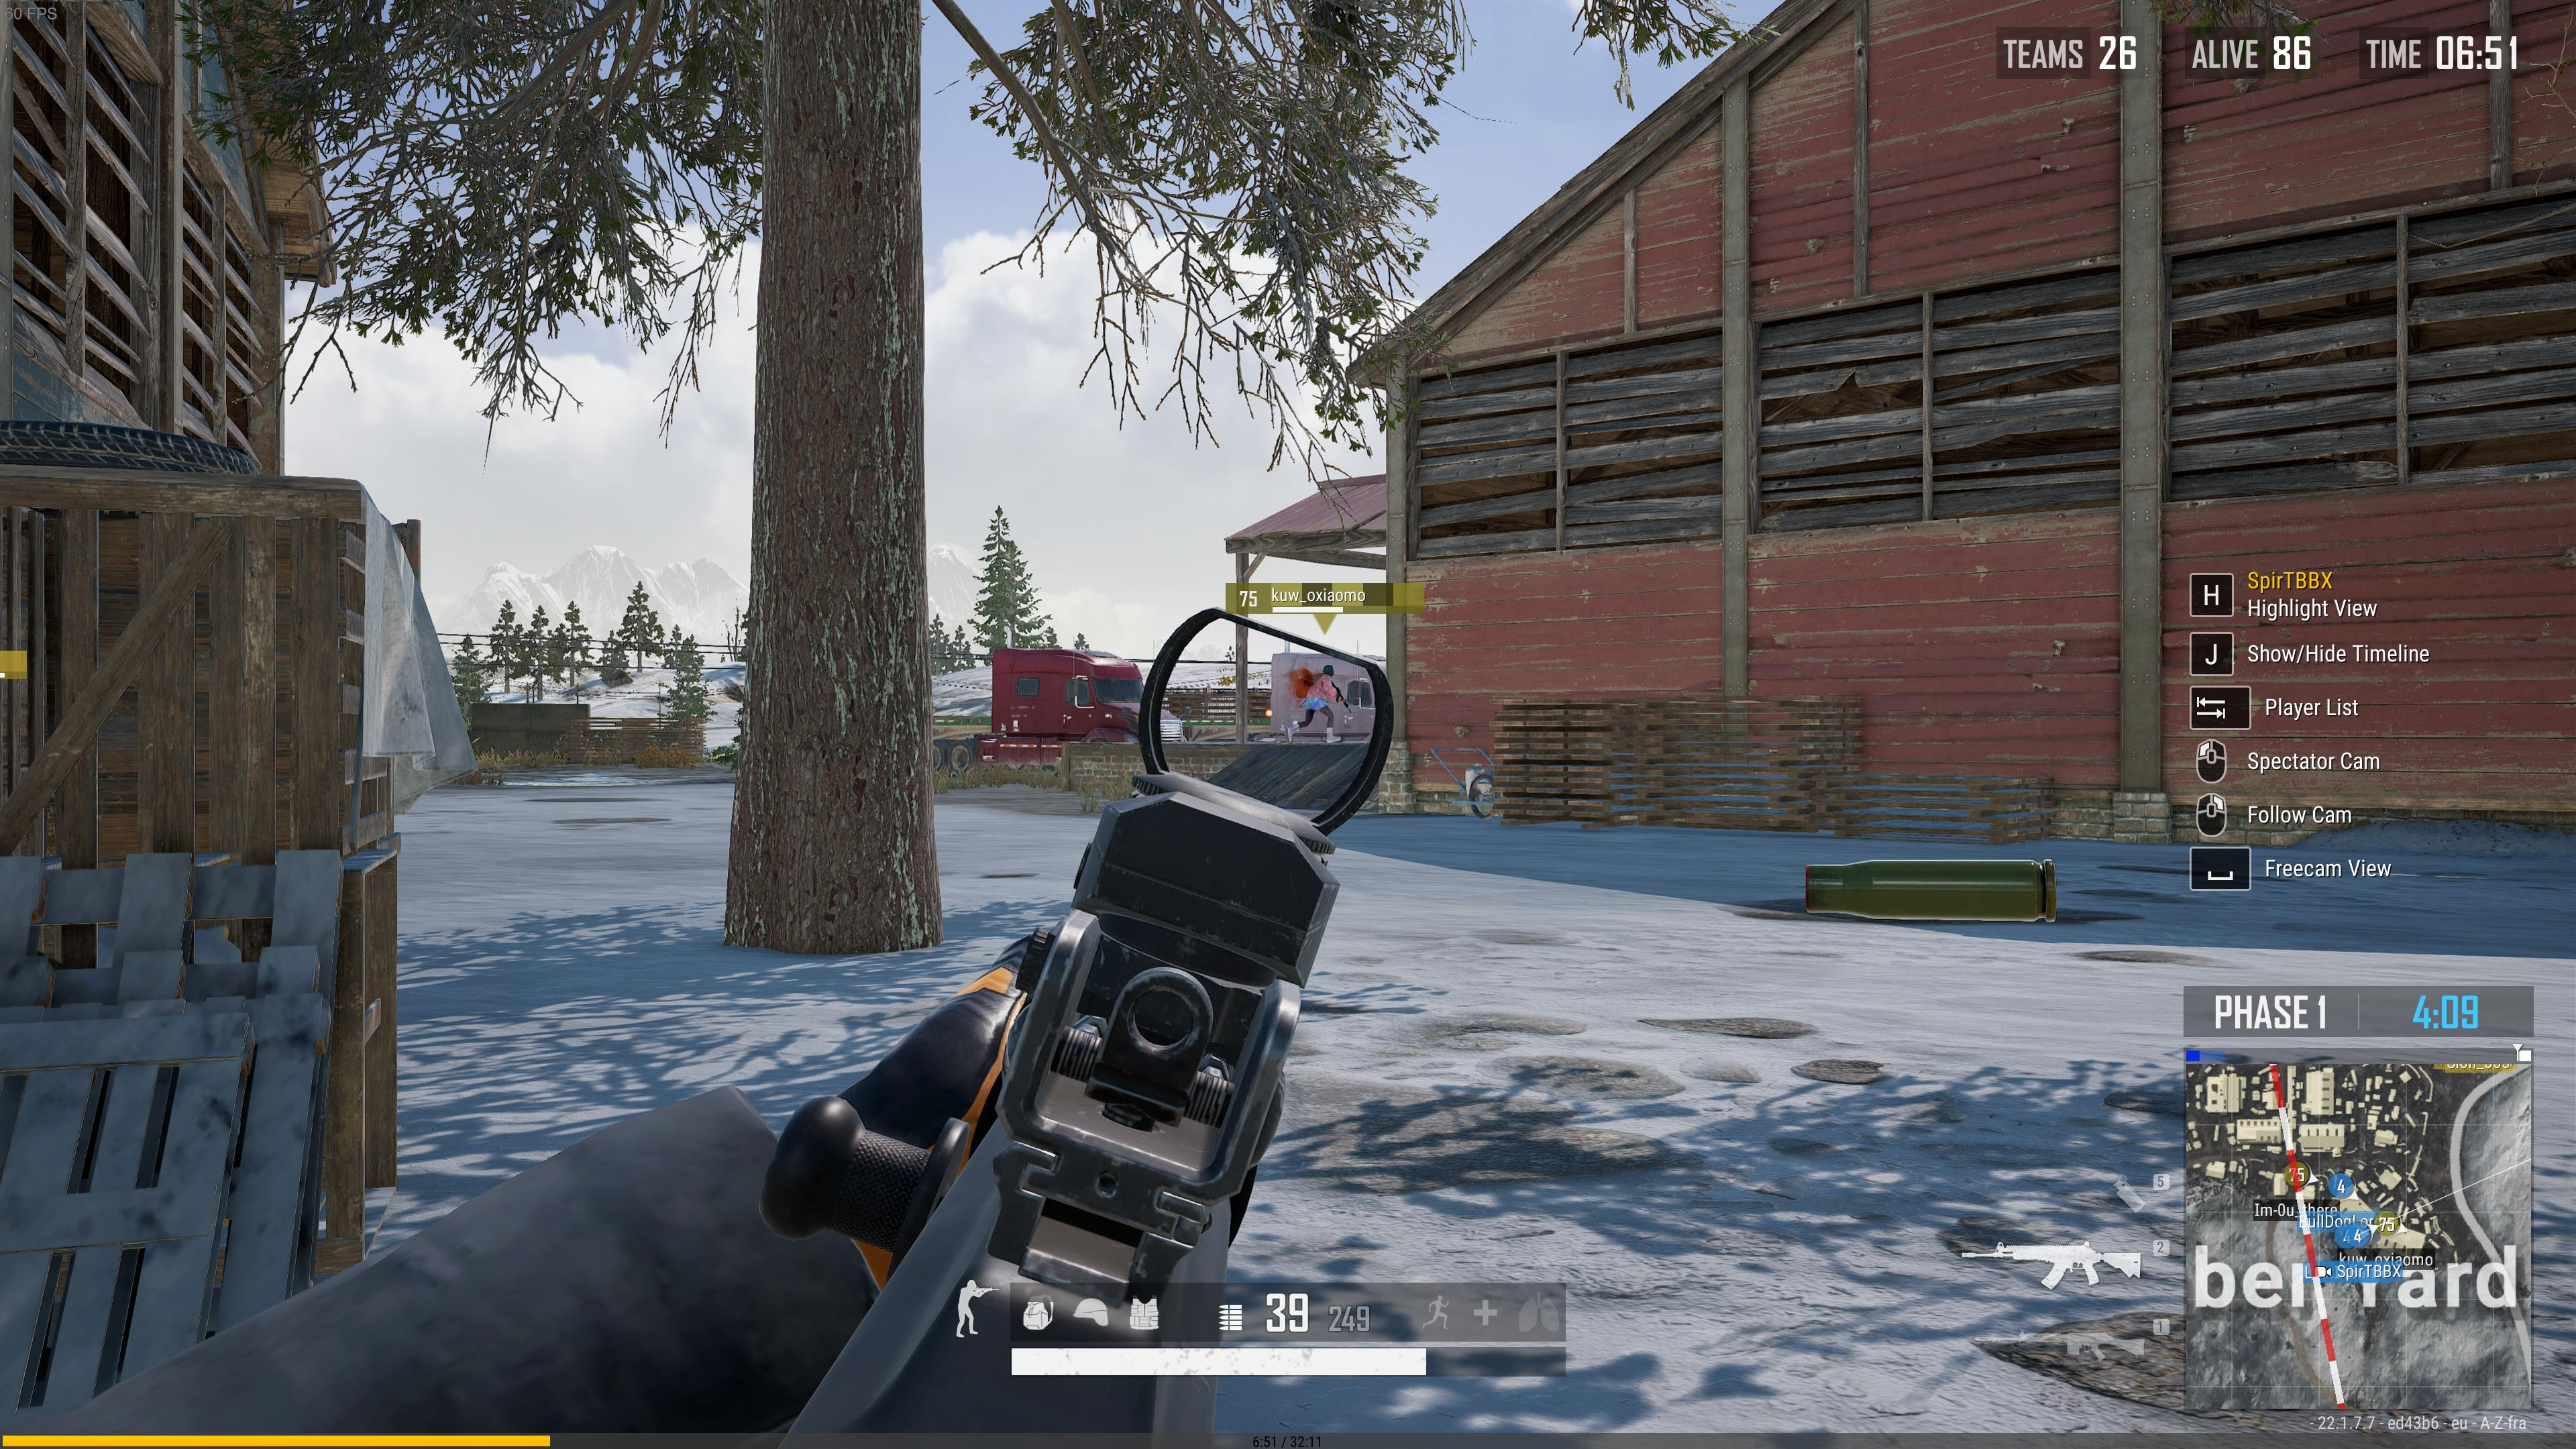enemy: (1284, 663, 1346, 741)
enemy_head: (1322, 663, 1332, 678)
